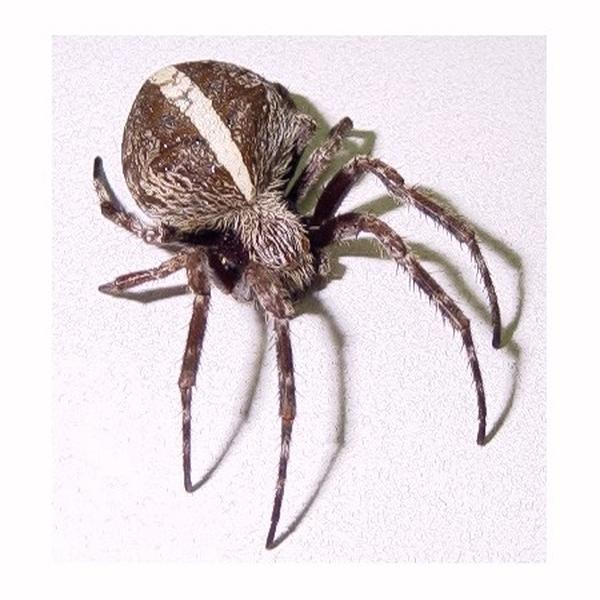Garden Orb Weaver Spider: (101, 65, 499, 519)
